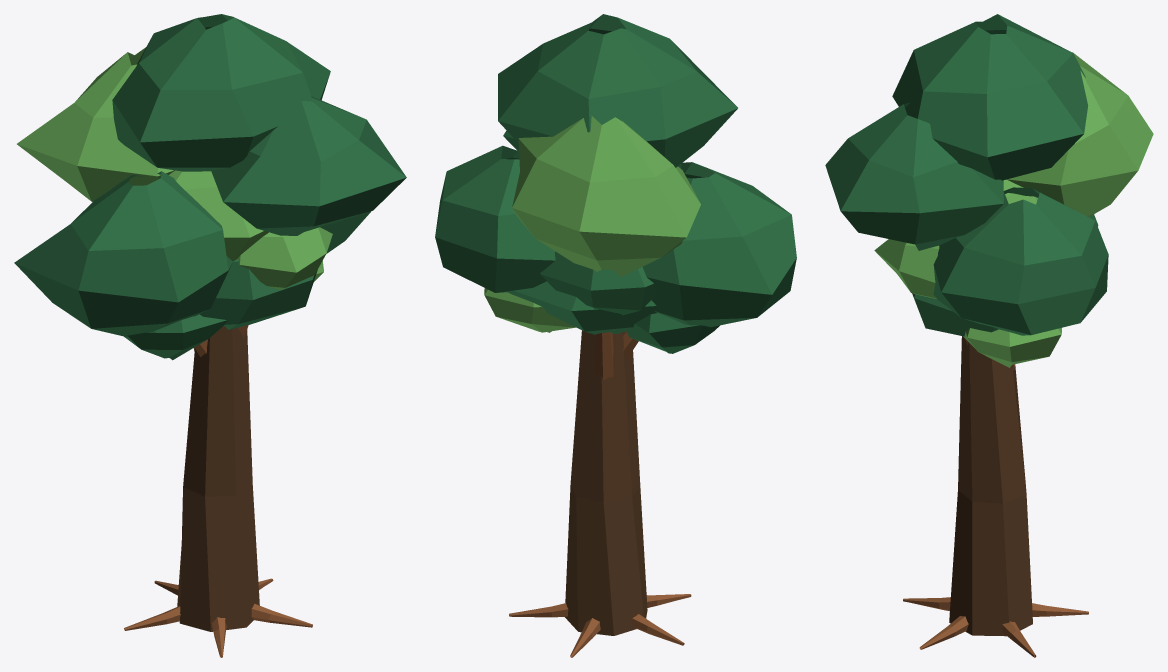
The model's file is tree_e.glb.
3 views of the same model, side by side, from view 1: azimuth 30°, elevation 25°; view 2: azimuth 150°, elevation 25°; view 3: azimuth 270°, elevation 25° (orthographic).
Visible parts, largest first — view 1: TREE_E; view 2: TREE_E; view 3: TREE_E.
Boxes of the visible parts, box(x1,y1,x2,y2) form: TREE_E: box(14, 14, 406, 657); TREE_E: box(435, 14, 796, 657); TREE_E: box(825, 14, 1153, 657).
Bounding box in the file's own units: 4.35 × 7.37 × 3.66.
